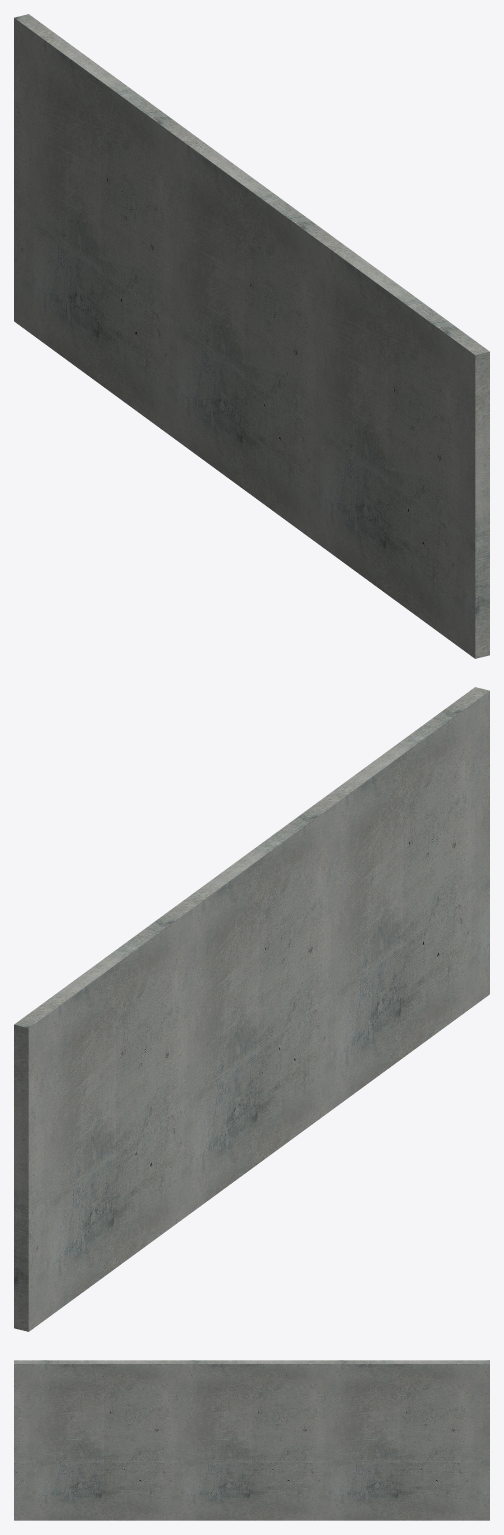
The model's file is souplongwall029.glb.
The picture shows the model from 3 angles, top to bottom: view 1: azimuth 30°, elevation 25°; view 2: azimuth 150°, elevation 25°; view 3: azimuth 270°, elevation 25°; orthographic projection. The views are drawn at different scales.
Parts seen in each view (by area): view 1: souplongwall029_high_1; view 2: souplongwall029_high_1; view 3: souplongwall029_high_1.
Boxes of the visible parts, box(x1,y1,x2,y2) form: souplongwall029_high_1: box(14, 14, 489, 658); souplongwall029_high_1: box(14, 687, 489, 1331); souplongwall029_high_1: box(14, 1360, 489, 1520).
Size of the model in its own units: 0.1504 by 2.95 by 8.11.
1 material, 1 textured.
